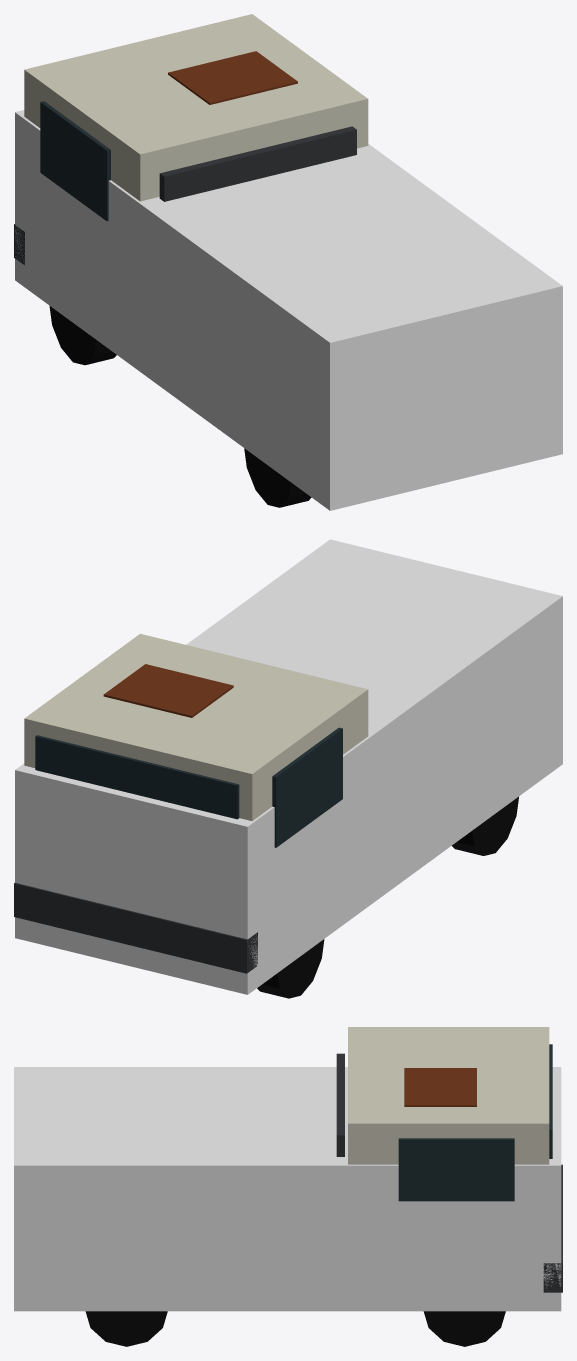
Rendered from KeiTruck.fbx.
3 renders of one model, top to bottom at view 1: azimuth 30°, elevation 25°; view 2: azimuth 150°, elevation 25°; view 3: azimuth 270°, elevation 25°, orthographic. The views are drawn at different scales.
Visible parts, largest first — view 1: COL_KeiTruck_0, KeiTruck; view 2: COL_KeiTruck_0, KeiTruck; view 3: COL_KeiTruck_0, KeiTruck.
Part boxes in pixels (x1,y1,x2,y2): COL_KeiTruck_0: (15,110,562,510); KeiTruck: (14,14,368,507); COL_KeiTruck_0: (15,539,562,994); KeiTruck: (14,633,518,998); COL_KeiTruck_0: (14,1067,561,1311); KeiTruck: (85,1027,562,1346).
Bounding box in the file's own units: 1.47 × 1.55 × 3.41.
